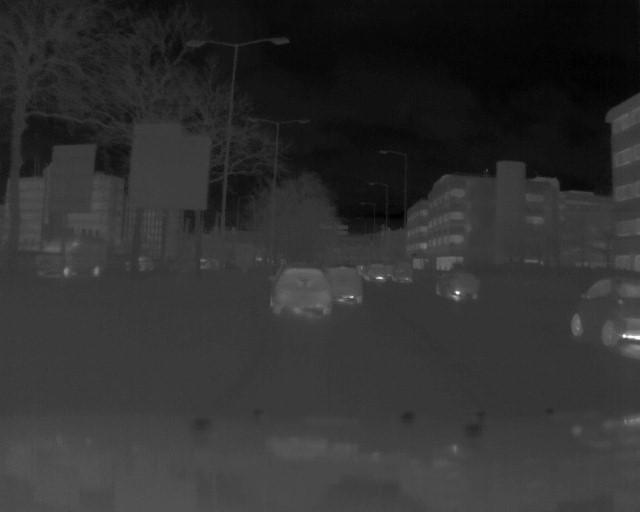car: (568, 275, 640, 350), (267, 261, 336, 318), (30, 237, 111, 279), (326, 262, 364, 310), (435, 267, 482, 305)
